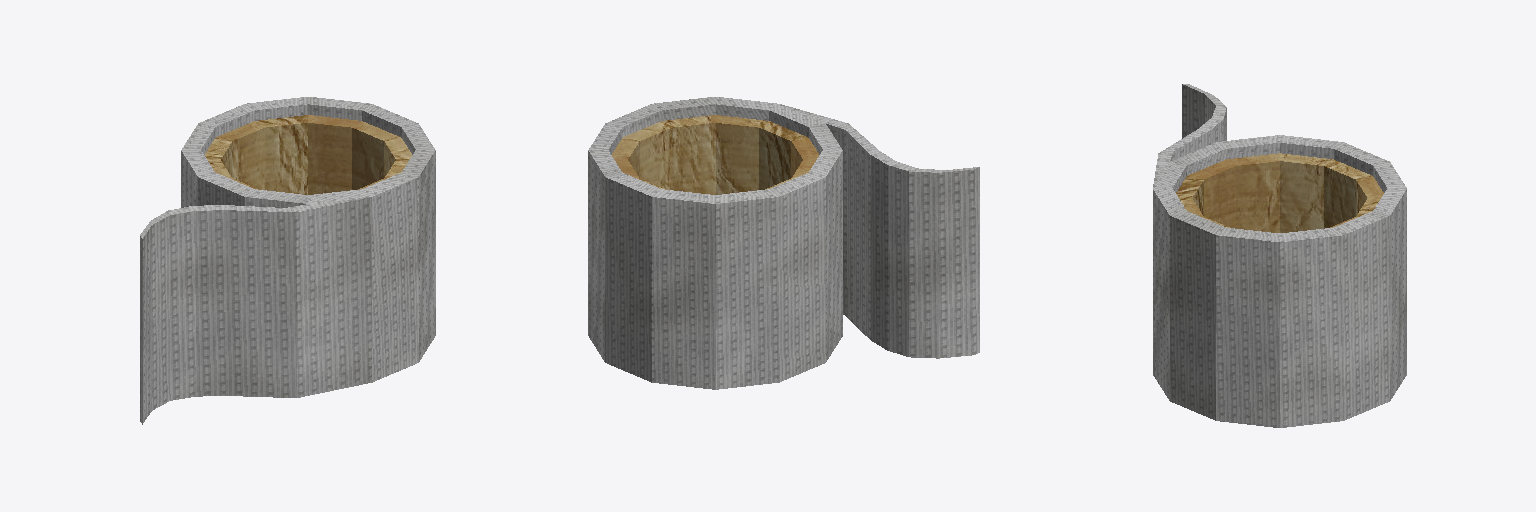
3 views of the same model, side by side, from view 1: azimuth 30°, elevation 25°; view 2: azimuth 150°, elevation 25°; view 3: azimuth 270°, elevation 25° (orthographic).
Visible parts, largest first — view 1: duck_tape; view 2: duck_tape; view 3: duck_tape.
Part boxes in pixels (x1,y1,x2,y2): duck_tape: (140, 97, 435, 424); duck_tape: (588, 97, 979, 389); duck_tape: (1153, 84, 1406, 427).
Bounding box in the file's own units: 50.28 × 27.6 × 34.07.
Materials: 1 (1 with a texture image).